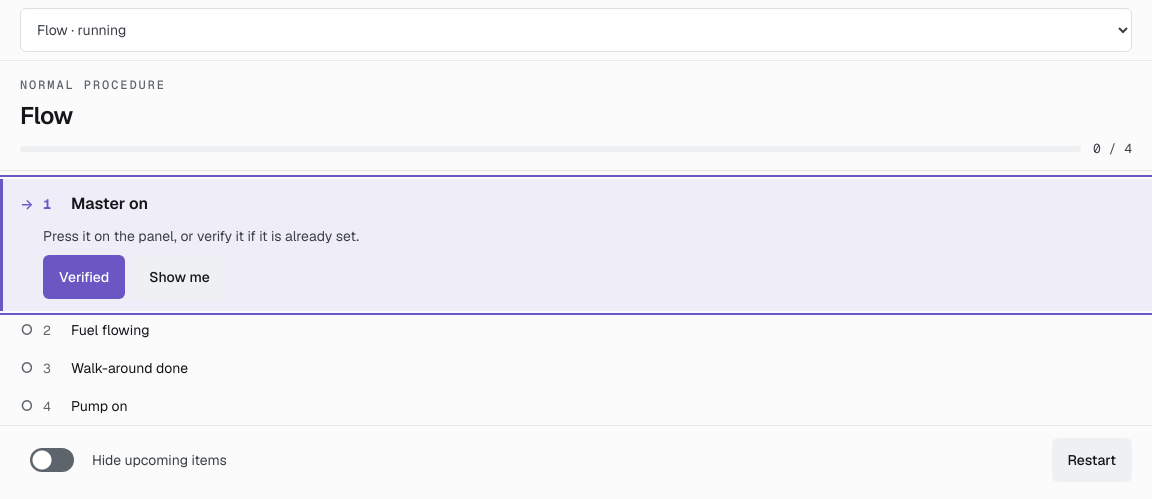
Test: Practice recall › offers Show me without the option too
The image size is (1152, 499).
Click the button "Show me" at (180, 277), box [133,255,226,299]
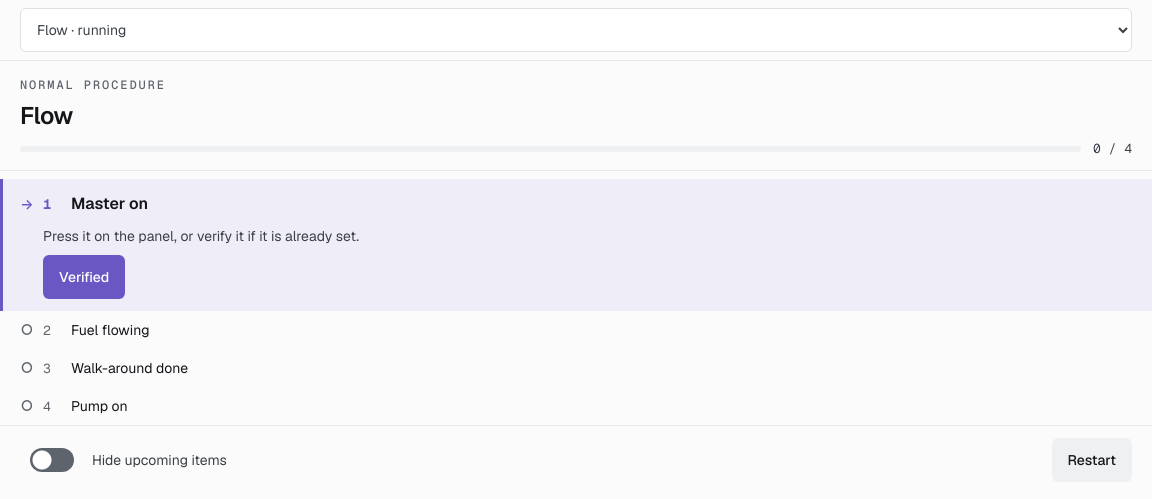
expect the button "Show me" is gone: met
